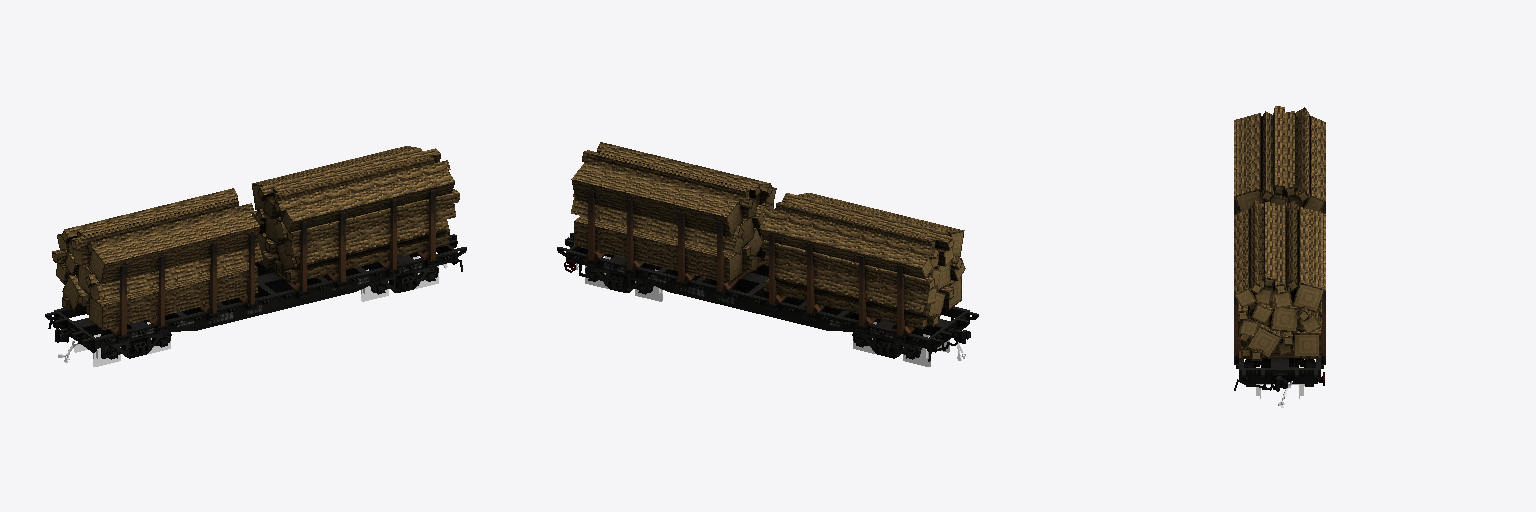
The picture shows the model from 3 angles: view 1: azimuth 30°, elevation 25°; view 2: azimuth 150°, elevation 25°; view 3: azimuth 270°, elevation 25°; orthographic projection.
Visible parts, largest first — view 1: FRAME_timber, CARGO_FILL_80, CARGO_FILL_100, CARGO_FILL_1, CARGO_FILL_60, CARGO_FILL_20, CARGO_FILL_40, BOGEY_REAR_timber, BOGEY_FRONT_timber; view 2: FRAME_timber, CARGO_FILL_100, CARGO_FILL_80, CARGO_FILL_20, CARGO_FILL_40, CARGO_FILL_1, CARGO_FILL_60, BOGEY_FRONT_timber, BOGEY_REAR_timber; view 3: CARGO_FILL_100, CARGO_FILL_80, FRAME_timber, CARGO_FILL_20, CARGO_FILL_60.
Boxes of the visible parts, <box> form: FRAME_timber: <box>45,189,466,358</box>; CARGO_FILL_80: <box>57,188,259,284</box>; CARGO_FILL_100: <box>252,146,454,232</box>; CARGO_FILL_1: <box>62,263,257,329</box>; CARGO_FILL_60: <box>252,189,459,256</box>; CARGO_FILL_20: <box>257,220,449,282</box>; CARGO_FILL_40: <box>52,243,262,300</box>; BOGEY_REAR_timber: <box>369,265,438,294</box>; BOGEY_FRONT_timber: <box>101,331,171,359</box>; FRAME_timber: <box>557,189,978,352</box>; CARGO_FILL_100: <box>571,142,776,237</box>; CARGO_FILL_80: <box>759,193,964,278</box>; CARGO_FILL_20: <box>574,216,765,282</box>; CARGO_FILL_40: <box>762,240,965,304</box>; CARGO_FILL_1: <box>764,268,961,329</box>; CARGO_FILL_60: <box>571,194,773,254</box>; BOGEY_FRONT_timber: <box>852,331,922,359</box>; BOGEY_REAR_timber: <box>585,265,654,294</box>; CARGO_FILL_100: <box>1234,200,1325,312</box>; CARGO_FILL_80: <box>1234,106,1325,211</box>; FRAME_timber: <box>1234,197,1325,391</box>; CARGO_FILL_20: <box>1238,322,1320,360</box>; CARGO_FILL_60: <box>1238,294,1321,337</box>.
Bounding box in the file's own units: 16.88 × 5.01 × 3.38.
Materials: 5 (3 with a texture image).